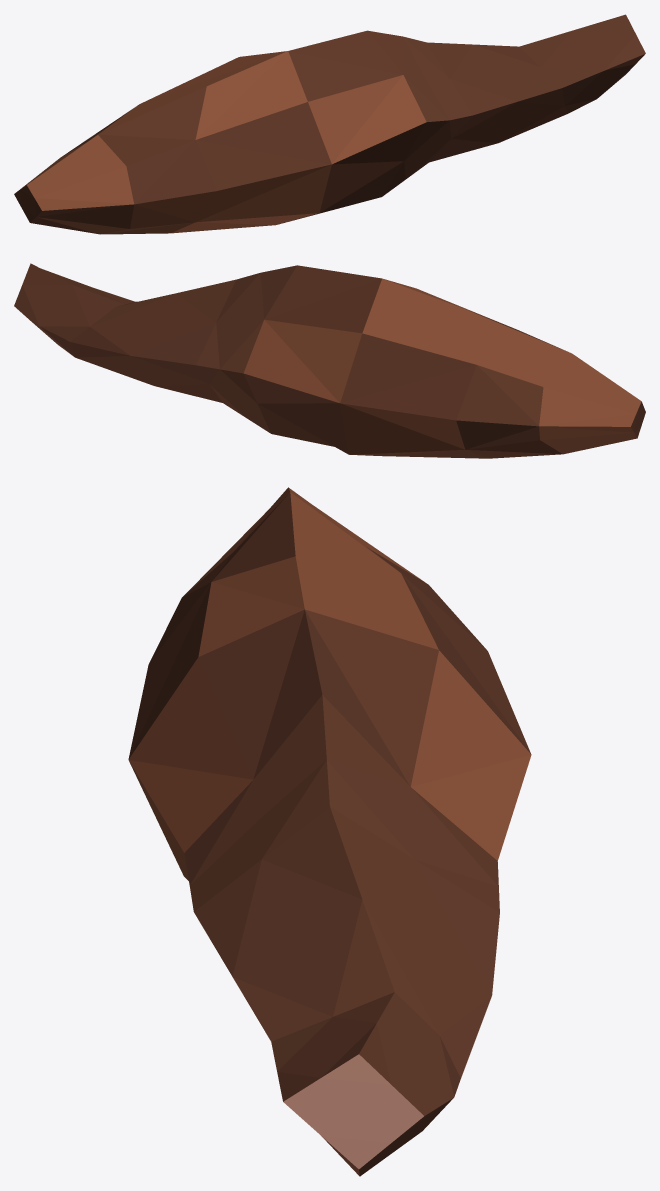
Rendered from Yucca root v1.fbx.
The picture shows the model from 3 angles, top to bottom: view 1: azimuth 30°, elevation 25°; view 2: azimuth 150°, elevation 25°; view 3: azimuth 270°, elevation 25°; orthographic projection. The views are drawn at different scales.
Parts seen in each view (by area): view 1: pPyramid1; view 2: pPyramid1; view 3: pPyramid1.
Part boxes in pixels (x1=…): pPyramid1: x1=14, y1=14, x2=645, y2=234; pPyramid1: x1=14, y1=263, x2=645, y2=458; pPyramid1: x1=128, y1=487, x2=531, y2=1176.
Bounding box in the file's own units: 5.14 × 1.43 × 1.51.
